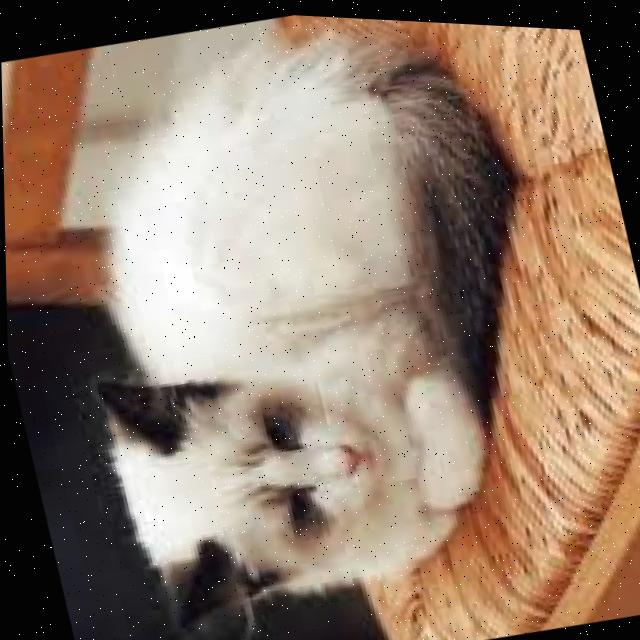Ragdoll: (1, 0, 598, 640)
